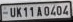character: (16, 6, 22, 17), (43, 5, 49, 16), (50, 5, 56, 16), (62, 4, 68, 15), (9, 7, 15, 17), (36, 6, 42, 16), (29, 6, 34, 17), (56, 5, 61, 15), (23, 6, 27, 17)
